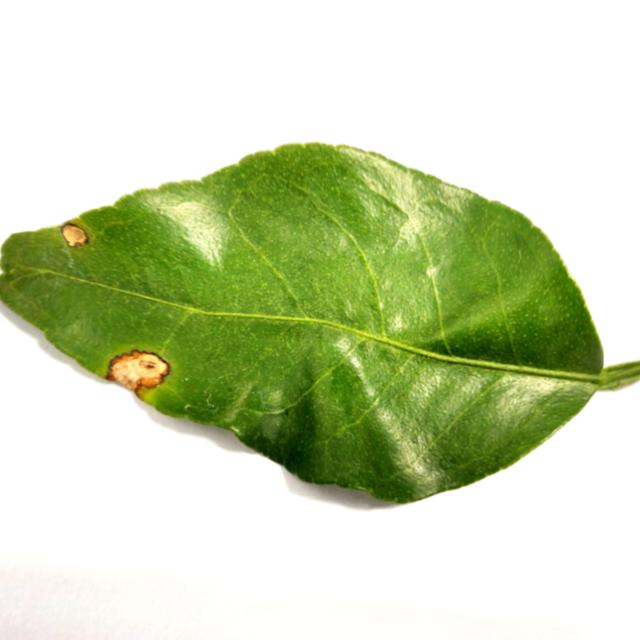antracnose: (0, 144, 640, 502), (107, 350, 170, 392), (61, 223, 88, 247)
